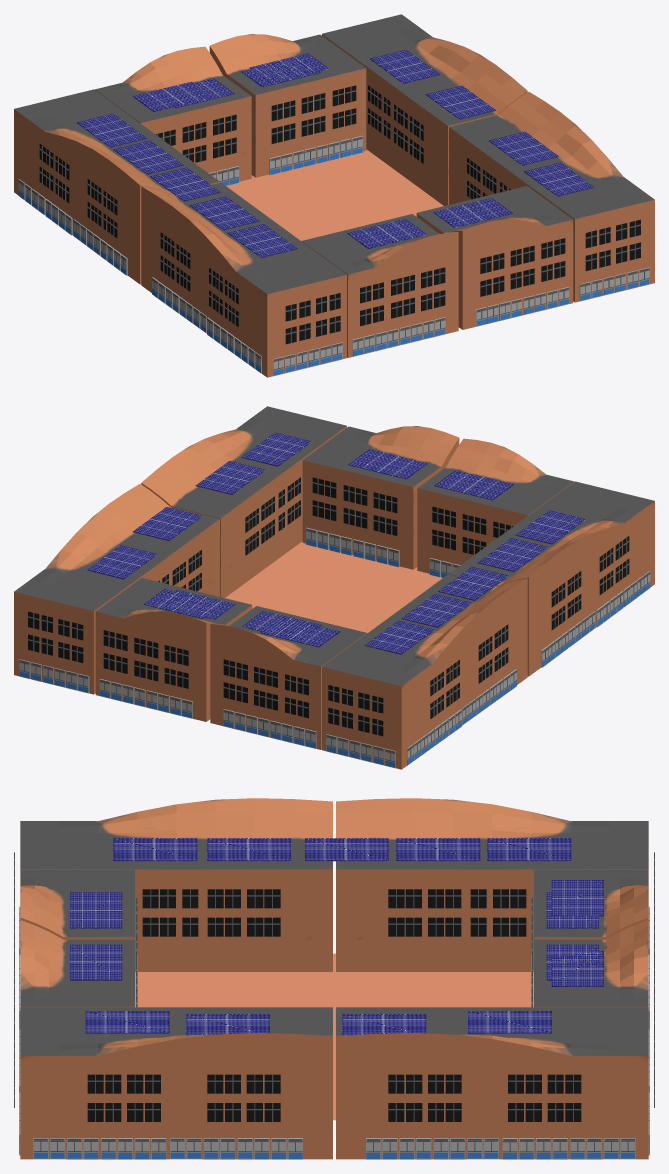
The model's file is dalton.fbx.
3 renders of one model, top to bottom at view 1: azimuth 30°, elevation 25°; view 2: azimuth 150°, elevation 25°; view 3: azimuth 270°, elevation 25°, orthographic. The views are drawn at different scales.
Visible parts, largest first — view 1: Cube, Cube.001, Cube.011, Cube.003, Cube.014, Cube.002, Cube.004, Cube.005, Cube.006, Cube.010, Cube.009, Cube.013 (+2 smaller); view 2: Cube, Cube.001, Cube.011, Cube.007, Cube.004, Cube.010, Cube.013, Cube.003, Cube.005, Cube.009, Cube.014, Cube.002 (+2 smaller); view 3: Cube, Cube.001, Cube.011, Cube.002, Cube.003, Cube.006, Cube.004, Cube.005, Cube.010, Cube.009, Cube.007, Cube.014 (+2 smaller).
Part boxes in pixels (left/top/right/bottom): Cube: left=14, top=14, right=654, bottom=377; Cube.001: left=94, top=34, right=573, bottom=357; Cube.011: left=226, top=149, right=443, bottom=240; Cube.003: left=113, top=140, right=183, bottom=174; Cube.014: left=425, top=85, right=495, bottom=119; Cube.002: left=77, top=113, right=146, bottom=147; Cube.004: left=150, top=167, right=220, bottom=201; Cube.005: left=189, top=196, right=259, bottom=230; Cube.006: left=227, top=224, right=297, bottom=257; Cube.010: left=524, top=162, right=594, bottom=196; Cube.009: left=370, top=50, right=439, bottom=83; Cube.013: left=488, top=131, right=558, bottom=165; Cube: left=14, top=406, right=654, bottom=769; Cube.001: left=95, top=426, right=574, bottom=749; Cube.011: left=225, top=541, right=442, bottom=632; Cube.007: left=261, top=617, right=339, bottom=647; Cube.004: left=438, top=566, right=508, bottom=600; Cube.010: left=241, top=432, right=311, bottom=466; Cube.013: left=195, top=461, right=265, bottom=494; Cube.003: left=401, top=594, right=471, bottom=627; Cube.005: left=478, top=538, right=547, bottom=571; Cube.009: left=87, top=545, right=157, bottom=579; Cube.014: left=133, top=507, right=202, bottom=540; Cube.002: left=365, top=620, right=434, bottom=654; Cube: left=14, top=798, right=654, bottom=1159; Cube.001: left=14, top=870, right=654, bottom=1092; Cube.011: left=135, top=953, right=533, bottom=1120; Cube.002: left=487, top=838, right=571, bottom=861; Cube.003: left=396, top=838, right=480, bottom=861; Cube.006: left=113, top=838, right=197, bottom=861; Cube.004: left=305, top=838, right=388, bottom=861; Cube.005: left=207, top=838, right=290, bottom=861; Cube.010: left=85, top=1011, right=169, bottom=1033; Cube.009: left=468, top=1011, right=551, bottom=1033; Cube.007: left=551, top=880, right=603, bottom=916; Cube.014: left=342, top=1014, right=426, bottom=1035.
Size of the model in its own units: 45621 by 11336 by 52038.
Materials: 340 (13 with a texture image).
